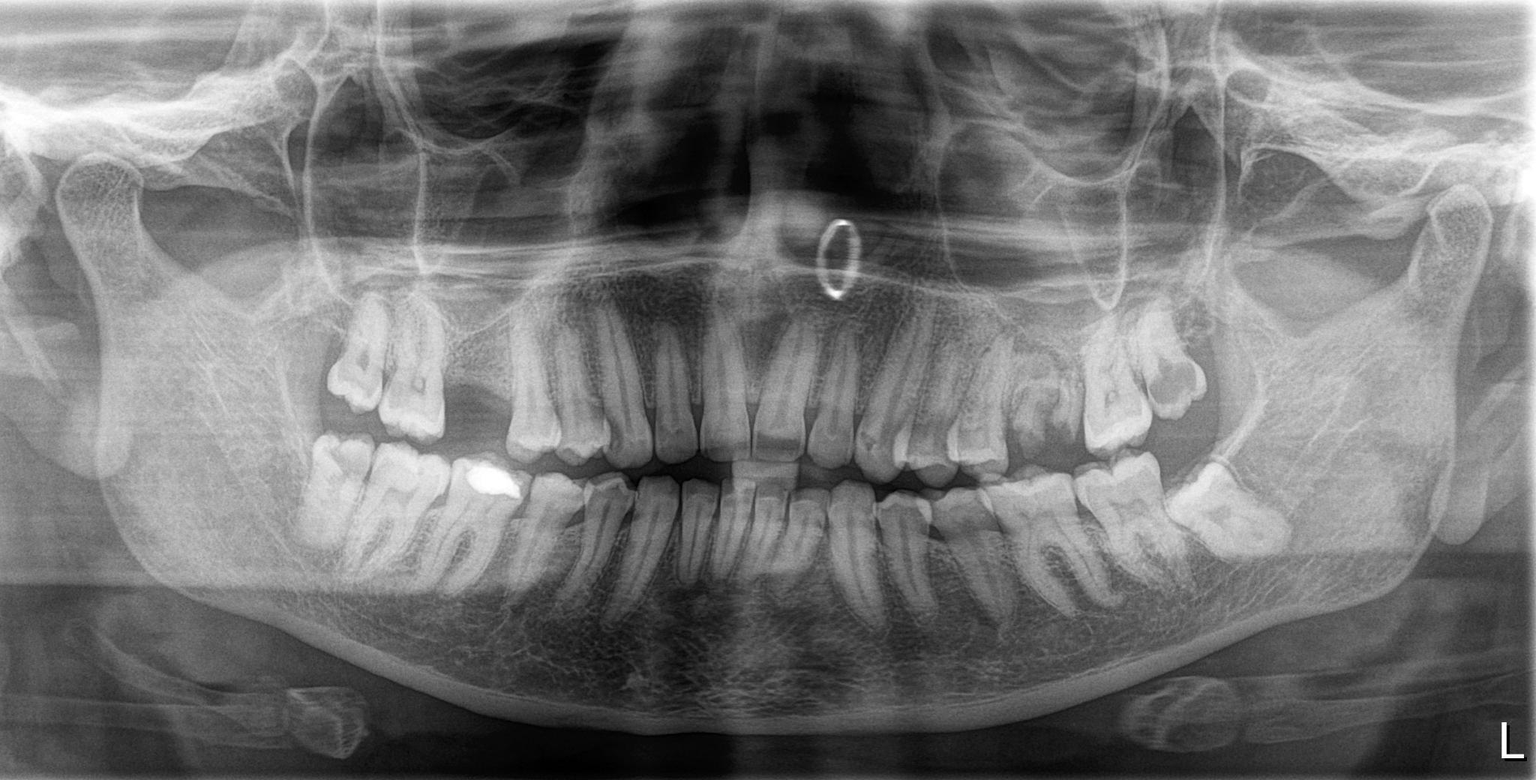Dental Caries: (1012, 388, 1087, 454), (1155, 352, 1213, 415)
Impacted Third Molar: (1187, 461, 1301, 565), (289, 418, 367, 539)
Missing Tooth: (444, 319, 511, 452)
